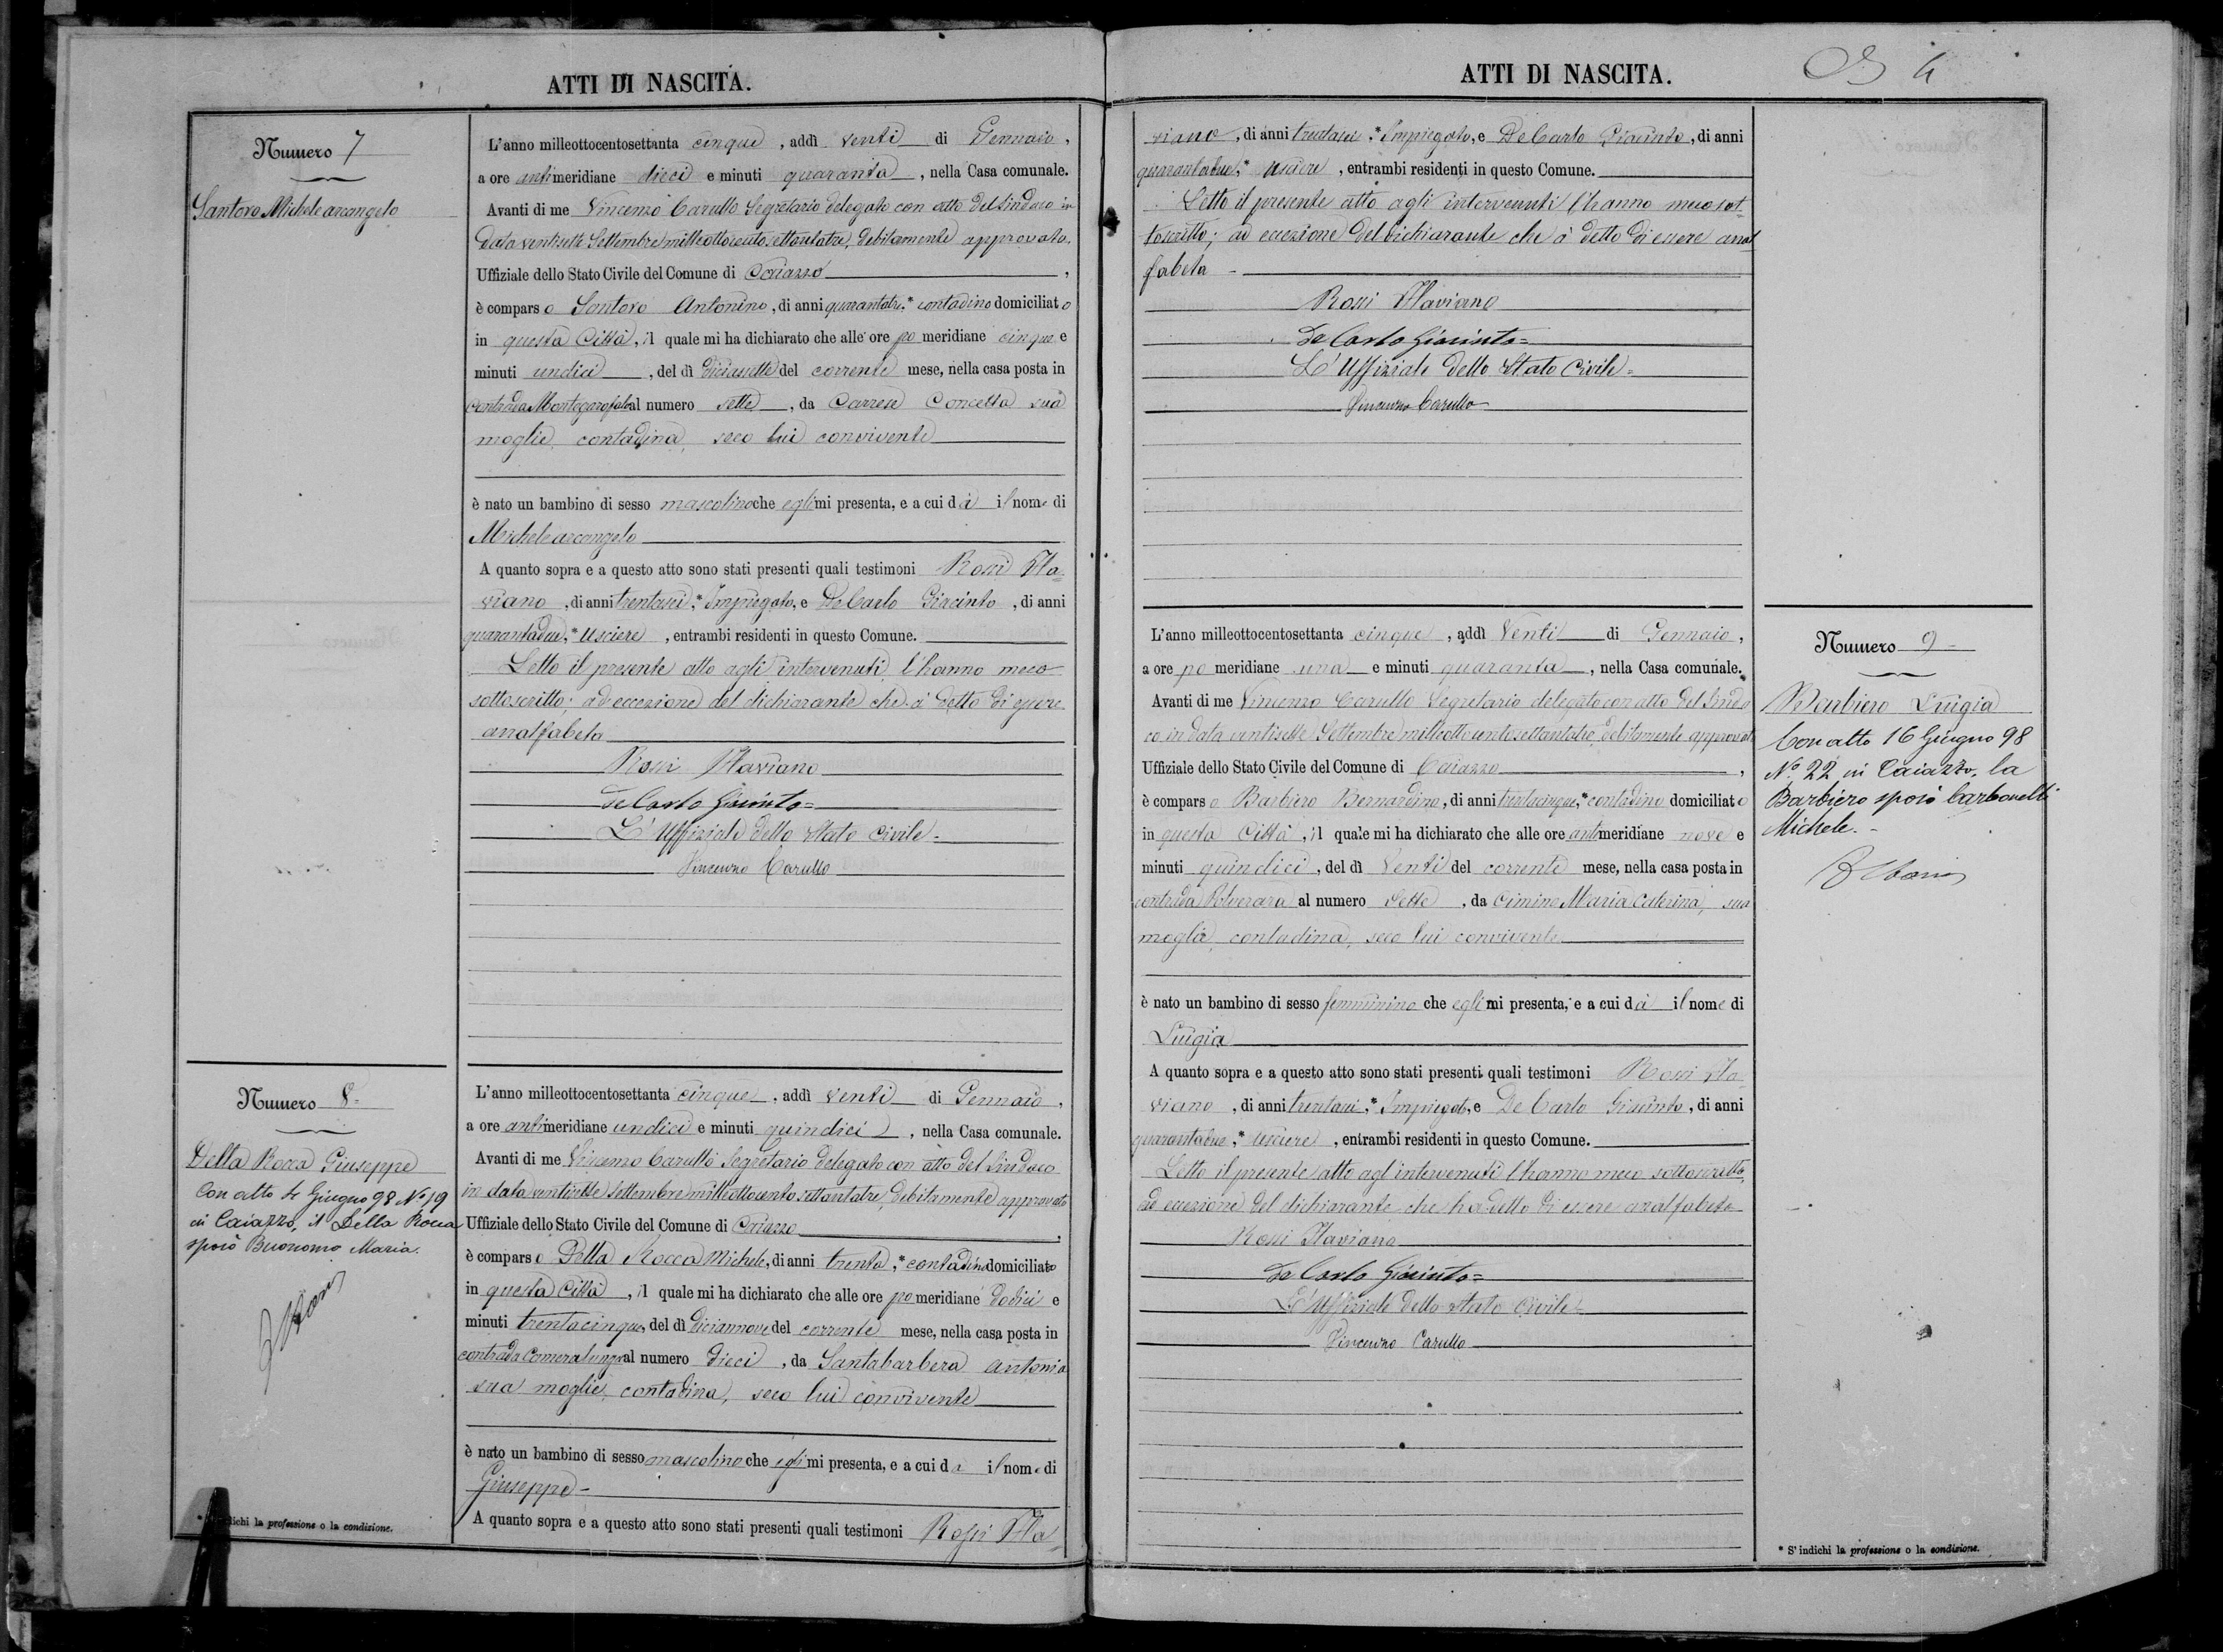Handwriting: (467, 685, 1069, 727), (1152, 1152, 1751, 1194), (566, 1135, 1060, 1185), (467, 1177, 1072, 1216), (1177, 184, 1748, 226), (1144, 715, 1754, 753), (1135, 1185, 1730, 1223), (472, 416, 944, 463), (462, 1374, 1000, 1414), (479, 222, 1067, 259), (1145, 217, 1758, 248), (1142, 920, 1562, 965), (488, 646, 1066, 677), (1243, 680, 1754, 711), (595, 814, 937, 855), (1269, 1286, 1583, 1327), (1291, 351, 1628, 389), (587, 189, 1076, 215), (191, 186, 403, 243), (1763, 680, 2003, 729), (453, 1461, 597, 1525), (1295, 323, 1529, 361), (918, 1508, 1064, 1567), (816, 1341, 1067, 1374), (554, 1236, 769, 1274), (604, 783, 817, 821), (186, 1142, 432, 1175), (469, 517, 642, 560), (828, 383, 1067, 415), (606, 744, 817, 779), (458, 1336, 620, 1381), (1494, 1081, 1687, 1118), (1496, 885, 1751, 911), (1307, 279, 1498, 314), (1210, 784, 1446, 812), (477, 1267, 616, 1314), (1263, 1255, 1484, 1284), (679, 840, 833, 880), (470, 389, 635, 425), (571, 290, 767, 319), (821, 578, 996, 611), (502, 318, 646, 357), (1218, 1218, 1397, 1249), (1498, 118, 1687, 147), (1326, 1317, 1468, 1354), (939, 543, 1066, 583), (517, 1308, 644, 1348), (1340, 385, 1489, 418), (762, 1116, 901, 1149), (1157, 819, 1303, 850), (705, 580, 795, 630), (1621, 1055, 1739, 1093), (1194, 850, 1310, 888), (1137, 882, 1296, 909), (781, 156, 901, 193), (1147, 1017, 1232, 1065), (463, 616, 571, 654), (1137, 151, 1243, 189), (1376, 120, 1472, 161), (1437, 654, 1567, 684), (1321, 982, 1416, 1022), (481, 718, 602, 750), (699, 347, 784, 389), (1378, 1088, 1466, 1128), (949, 1074, 1048, 1107), (972, 109, 1057, 147), (644, 1442, 750, 1472), (826, 286, 902, 326), (1286, 1088, 1369, 1124), (810, 351, 902, 383), (1135, 1128, 1230, 1159), (1138, 252, 1208, 293), (607, 1109, 699, 1140), (798, 1310, 890, 1341), (534, 351, 623, 380), (1640, 618, 1728, 647), (1588, 783, 1664, 816), (672, 1076, 767, 1102), (906, 1246, 989, 1275), (743, 253, 830, 281), (817, 1078, 902, 1105), (819, 1242, 890, 1275), (1498, 609, 1567, 642), (911, 292, 993, 319), (689, 1308, 771, 1336), (840, 113, 904, 147), (1378, 847, 1458, 875), (663, 489, 753, 514), (1499, 790, 1576, 817), (614, 585, 694, 611), (1355, 625, 1435, 651), (703, 1340, 767, 1371), (767, 1445, 807, 1494), (1251, 1126, 1321, 1154), (1484, 854, 1569, 876), (1676, 817, 1734, 850), (691, 128, 772, 151), (731, 1211, 800, 1237), (475, 585, 548, 609), (581, 621, 649, 647), (1293, 120, 1364, 144), (1262, 156, 1329, 180), (1293, 652, 1354, 678), (1385, 885, 1440, 913), (1151, 1090, 1218, 1112), (1152, 123, 1218, 146), (996, 330, 1057, 354), (876, 330, 918, 364), (781, 488, 814, 528), (987, 1282, 1045, 1305), (338, 127, 368, 170), (1451, 987, 1484, 1026), (718, 392, 769, 416), (640, 163, 694, 186), (876, 1286, 915, 1317), (507, 1111, 550, 1137), (512, 161, 554, 187), (1173, 661, 1211, 685), (338, 1079, 366, 1112), (1571, 819, 1602, 843), (1631, 993, 1659, 1015), (1925, 626, 1940, 663), (996, 1447, 1015, 1477), (958, 488, 980, 510), (1680, 982, 1694, 1019), (1034, 491, 1053, 510), (1003, 488, 1017, 514), (1737, 793, 1753, 810), (1038, 1456, 1046, 1482), (1057, 302, 1074, 312), (954, 1458, 963, 1477), (1721, 998, 1728, 1015)
